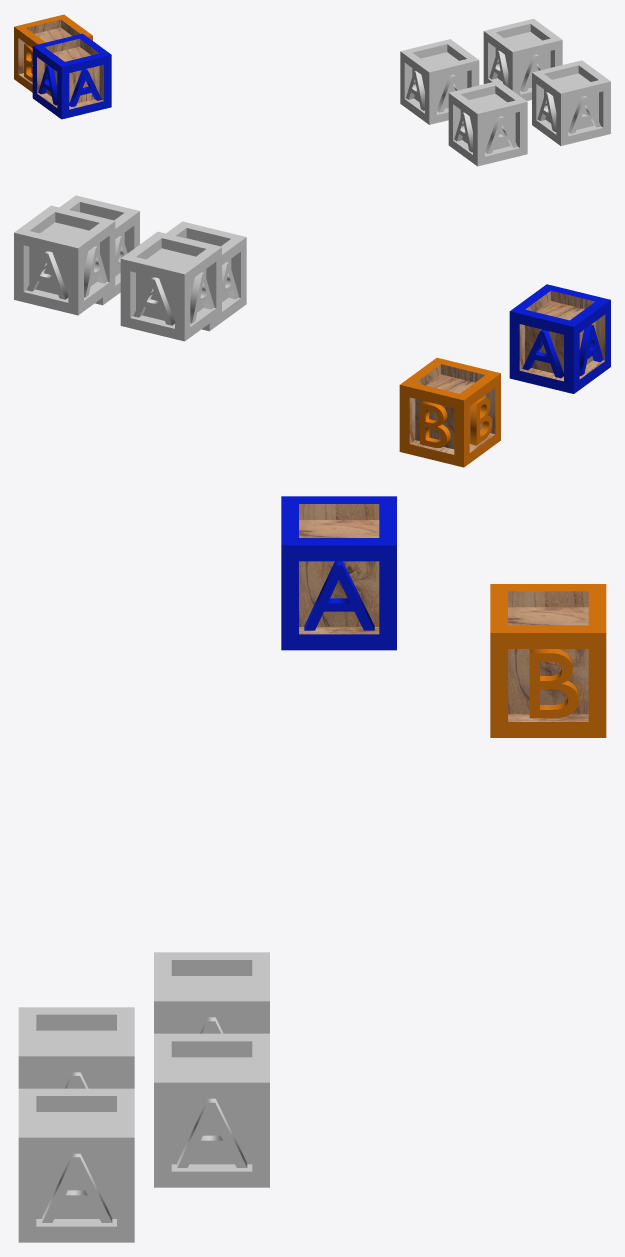
The model's file is BabyBlockB.fbx.
3 views of the same model, one above another, from view 1: azimuth 30°, elevation 25°; view 2: azimuth 150°, elevation 25°; view 3: azimuth 270°, elevation 25° (orthographic). The views are drawn at different scales.
Visible parts, largest first — view 1: Cube.003, Cube.004, Cube.006, Cube.002, Cube.005, Cube.001, Text.020, Text.012, Text.023, Text.011, Text.015, Text.019 (+2 smaller); view 2: Cube.003, Cube.001, Cube.002, Cube.005, Cube.004, Cube.006, Text.017, Text.009, Text.011, Text.019, Text.015; view 3: Cube.001, Cube.003, Cube.006, Cube.005, Cube.004, Cube.002, Text.022, Text.018.
Part boxes in pixels (x1,y1,x2,y2): Cube.003: (32,33,111,119); Cube.004: (448,80,527,166); Cube.006: (532,60,610,145); Cube.002: (400,39,479,124); Cube.005: (483,18,562,100); Cube.001: (14,14,92,92); Text.020: (568,95,600,133); Text.012: (485,116,517,154); Text.023: (537,92,556,131); Text.011: (406,71,424,110); Text.015: (454,112,472,152); Text.019: (489,50,508,87); Cube.003: (509,284,610,393); Cube.001: (399,357,500,467); Cube.002: (120,231,221,341); Cube.005: (14,205,115,315); Cube.004: (166,221,246,331); Cube.006: (59,195,139,305); Text.017: (27,251,68,299); Text.009: (133,277,174,325); Text.011: (190,272,214,323); Text.019: (84,246,107,297); Text.015: (222,262,238,301); Cube.001: (490,584,606,737); Cube.003: (281,496,396,650); Cube.006: (18,1088,134,1242); Cube.005: (154,1033,269,1187); Cube.004: (18,1007,134,1088); Cube.002: (154,952,269,1033); Text.022: (42,1153,112,1222); Text.018: (177,1098,247,1167).
Size of the model in its own units: 1929 by 522 by 1014.
